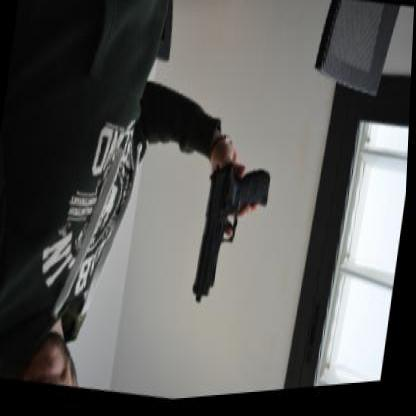pistol: (193, 156, 275, 316)
